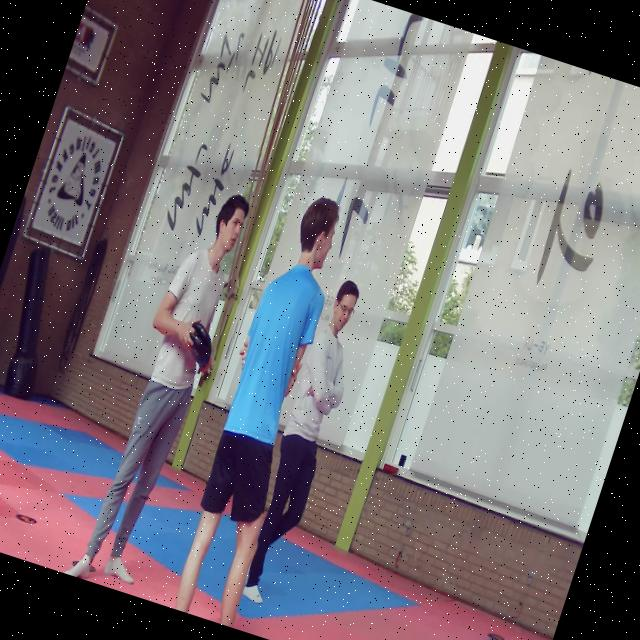paddle: (188, 321, 211, 374)
